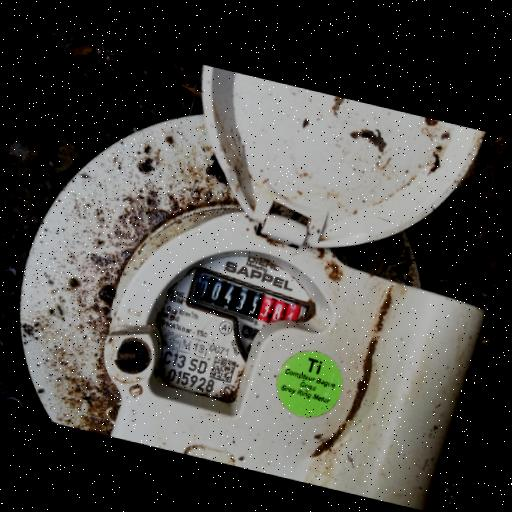0: (206, 276, 228, 306), (192, 272, 213, 302)
1: (283, 301, 299, 323)
3: (231, 284, 254, 315), (256, 294, 276, 324)
4: (219, 282, 241, 311)
5: (245, 289, 265, 319)
8: (268, 299, 289, 328)
border_water_meter_number: (187, 270, 310, 340)
